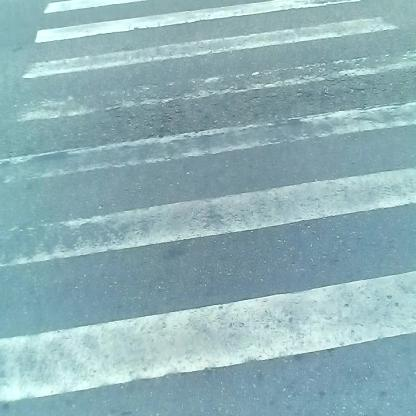crosswalk: (15, 7, 409, 389)
